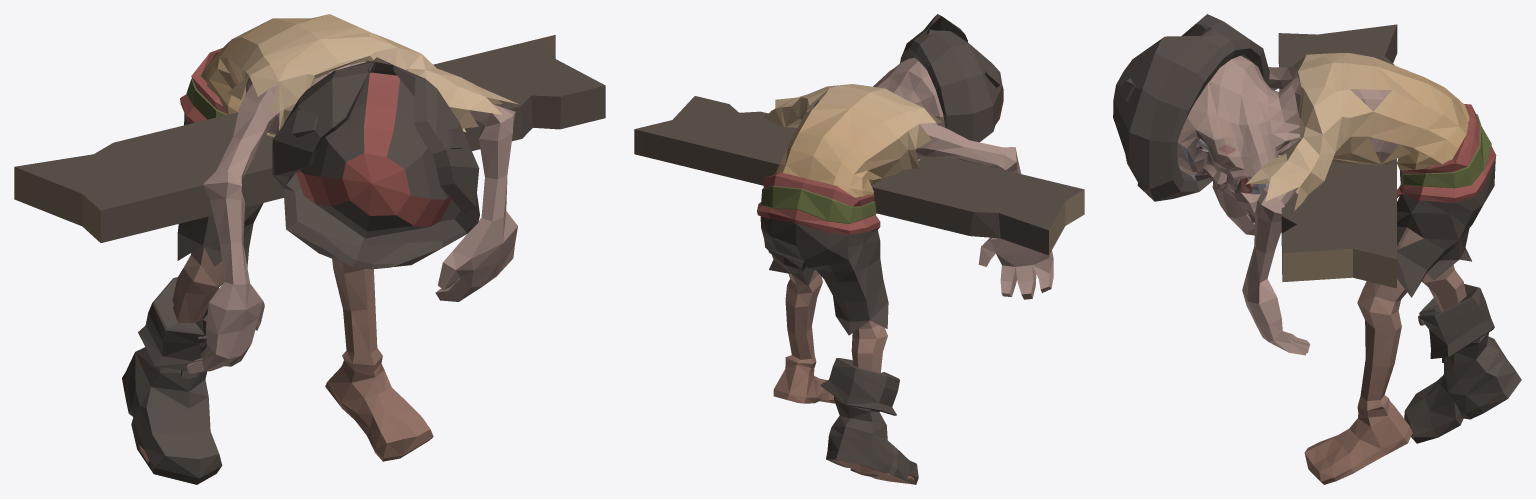
File: deadAdventurerWater01.fbx
3 views of the same model, side by side, from view 1: azimuth 30°, elevation 25°; view 2: azimuth 150°, elevation 25°; view 3: azimuth 270°, elevation 25° (orthographic). The views are drawn at different scales.
Parts seen in each view (by area): view 1: deadAdventurerWater01; view 2: deadAdventurerWater01; view 3: deadAdventurerWater01.
Part boxes in pixels (bbox=[...]): deadAdventurerWater01: bbox=[14, 14, 605, 484]; deadAdventurerWater01: bbox=[634, 14, 1084, 484]; deadAdventurerWater01: bbox=[1113, 14, 1521, 484].
Size of the model in its own units: 1.91 by 1.66 by 1.4.
2 materials, 2 textured.
